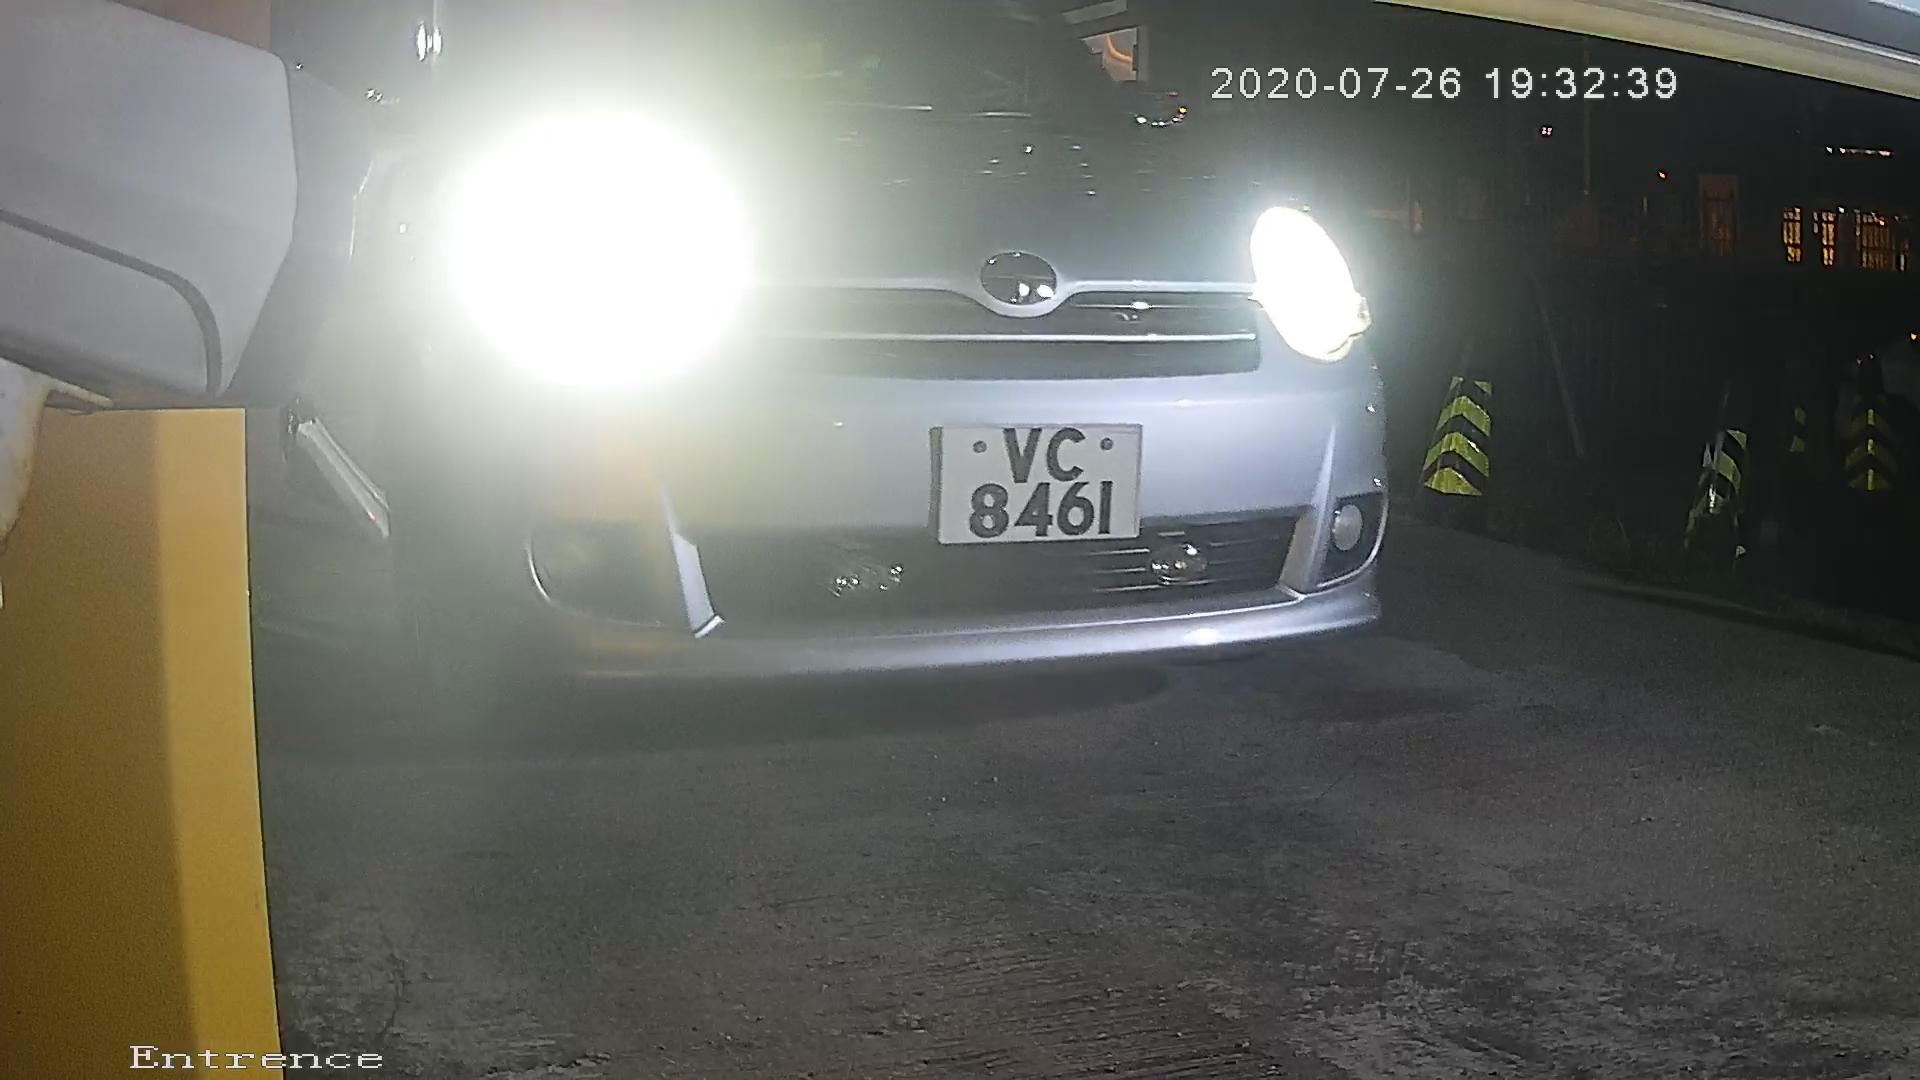Car: (35, 34, 1569, 820)
License Plate: (892, 391, 1166, 569)
